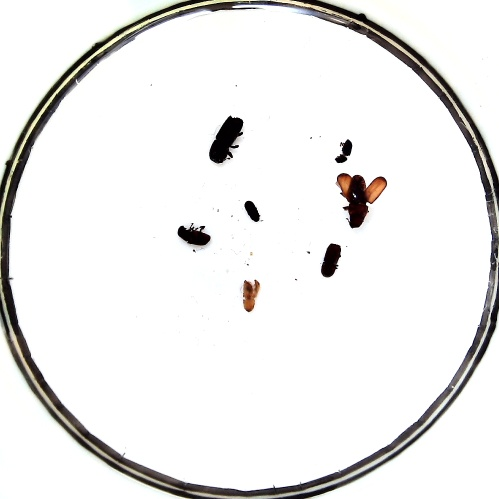acuminatus: (334, 138, 352, 163), (244, 200, 260, 221)
armandi: (177, 225, 211, 245)
boerner: (209, 115, 244, 163)
coleoptera: (243, 279, 260, 311)
leconte: (347, 175, 368, 228)
linnaeus: (320, 243, 341, 277)
